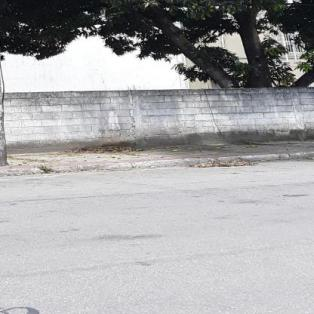Poste: (0, 0, 10, 169)
